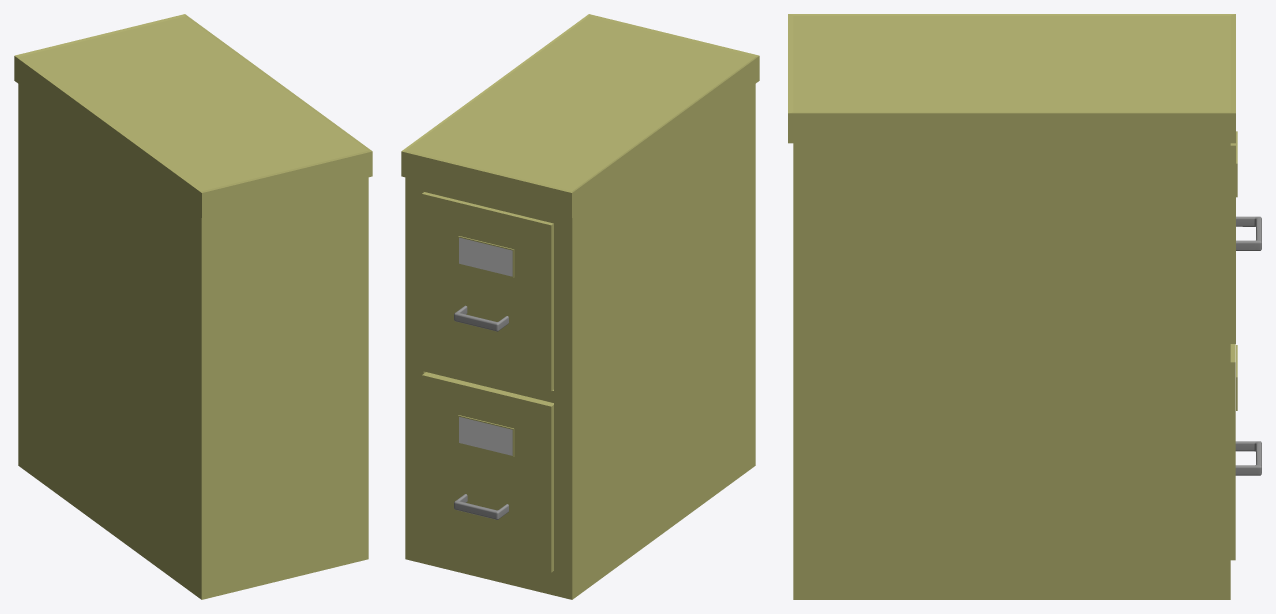
Rendered from filingCabinet_New.fbx.
3 views of the same model, side by side, from view 1: azimuth 30°, elevation 25°; view 2: azimuth 150°, elevation 25°; view 3: azimuth 270°, elevation 25° (orthographic). The views are drawn at different scales.
Parts seen in each view (by area): view 1: base; view 2: base, bottomDrawerFront, topDrawerFront, white_corkBoard:boardBack, boardBack, topDrawerHandle, bottomDrawerHandle; view 3: base, bottomDrawerFront, topDrawerFront, bottomDrawerHandle, topDrawerHandle.
Part boxes in pixels (x1,y1,x2,y2): base: (14, 14, 372, 599); base: (401, 14, 759, 599); bottomDrawerFront: (422, 372, 553, 572); topDrawerFront: (422, 192, 553, 391); white_corkBoard:boardBack: (459, 237, 512, 276); boardBack: (459, 417, 512, 455); topDrawerHandle: (454, 305, 508, 331); bottomDrawerHandle: (454, 494, 508, 519); base: (788, 14, 1235, 599); bottomDrawerFront: (1230, 344, 1235, 560); topDrawerFront: (1230, 143, 1235, 343); bottomDrawerHandle: (1235, 441, 1261, 475); topDrawerHandle: (1236, 216, 1261, 250).
Bounding box in the file's own units: 3.02 × 6.91 × 6.09.
